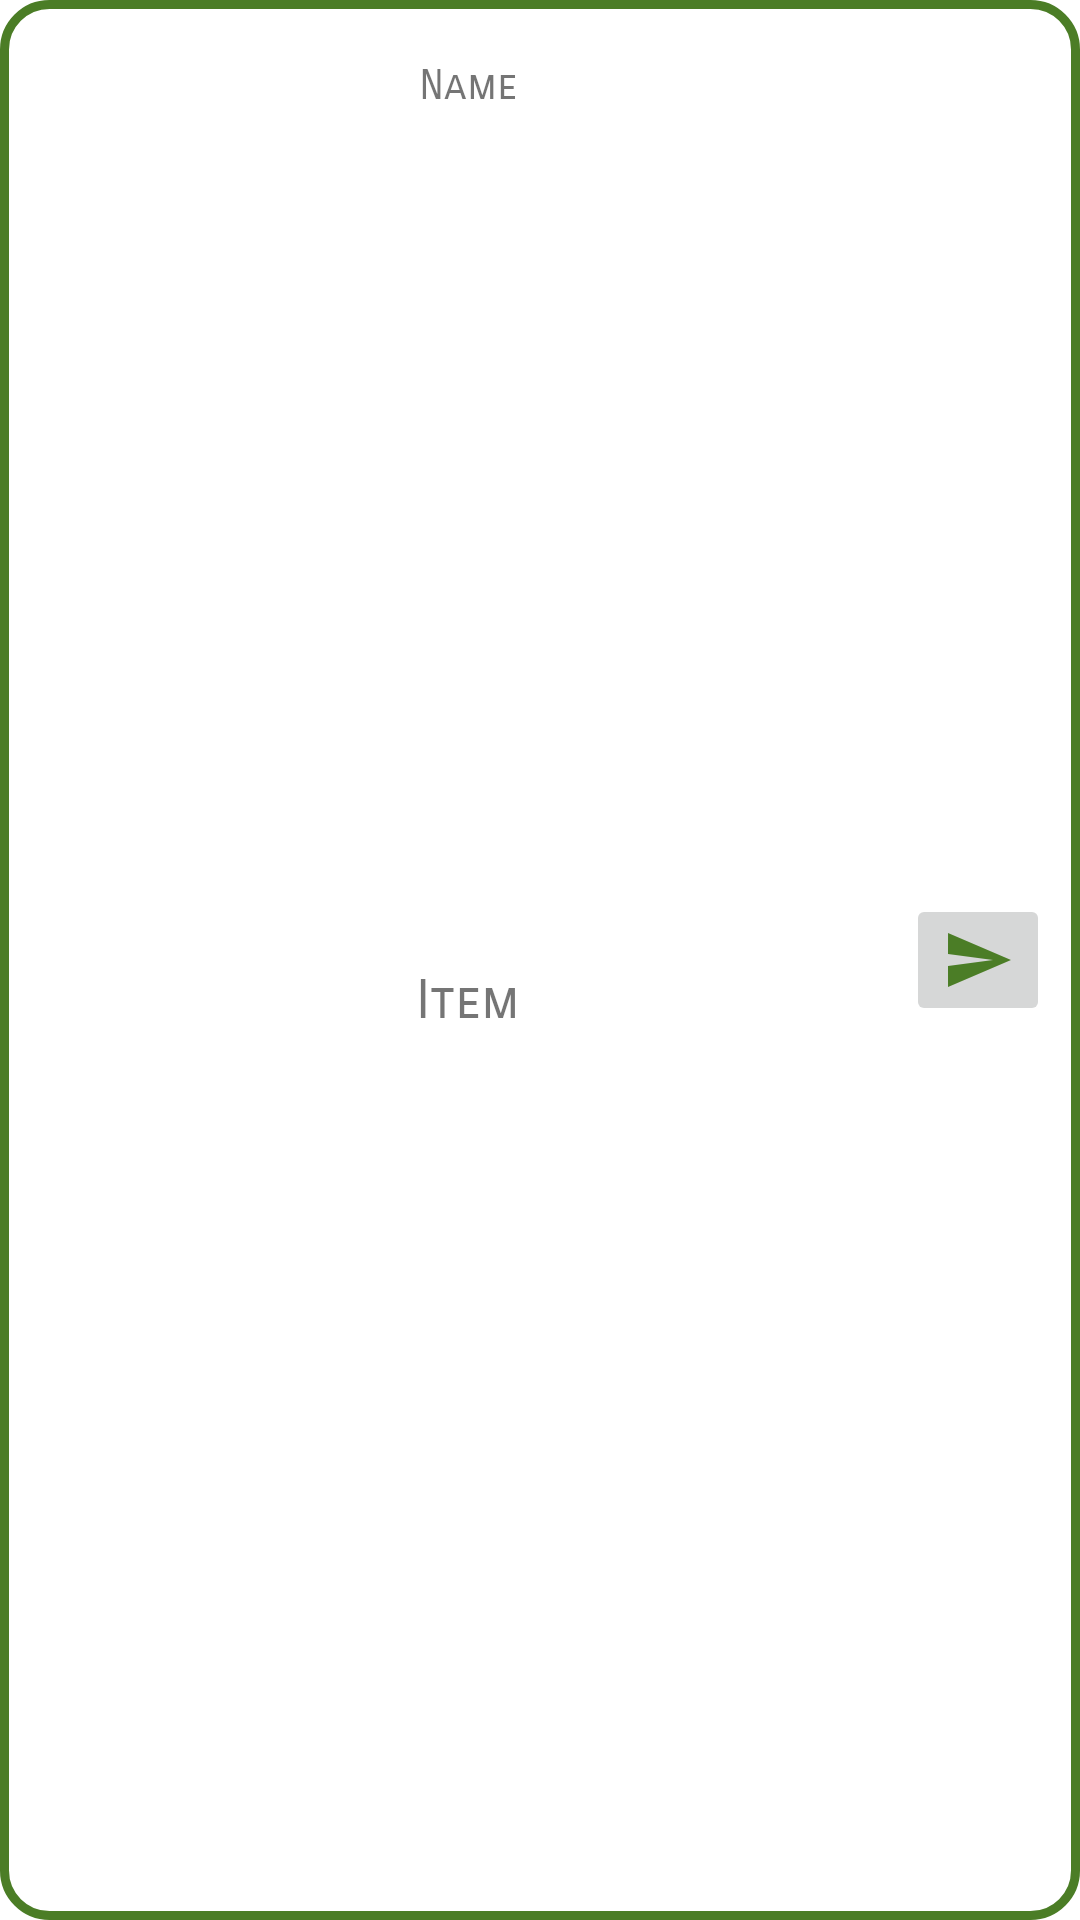

Point at icon controls on the screen. Image size 1080px×1920px, points as [x,y].
send: [978,960]
